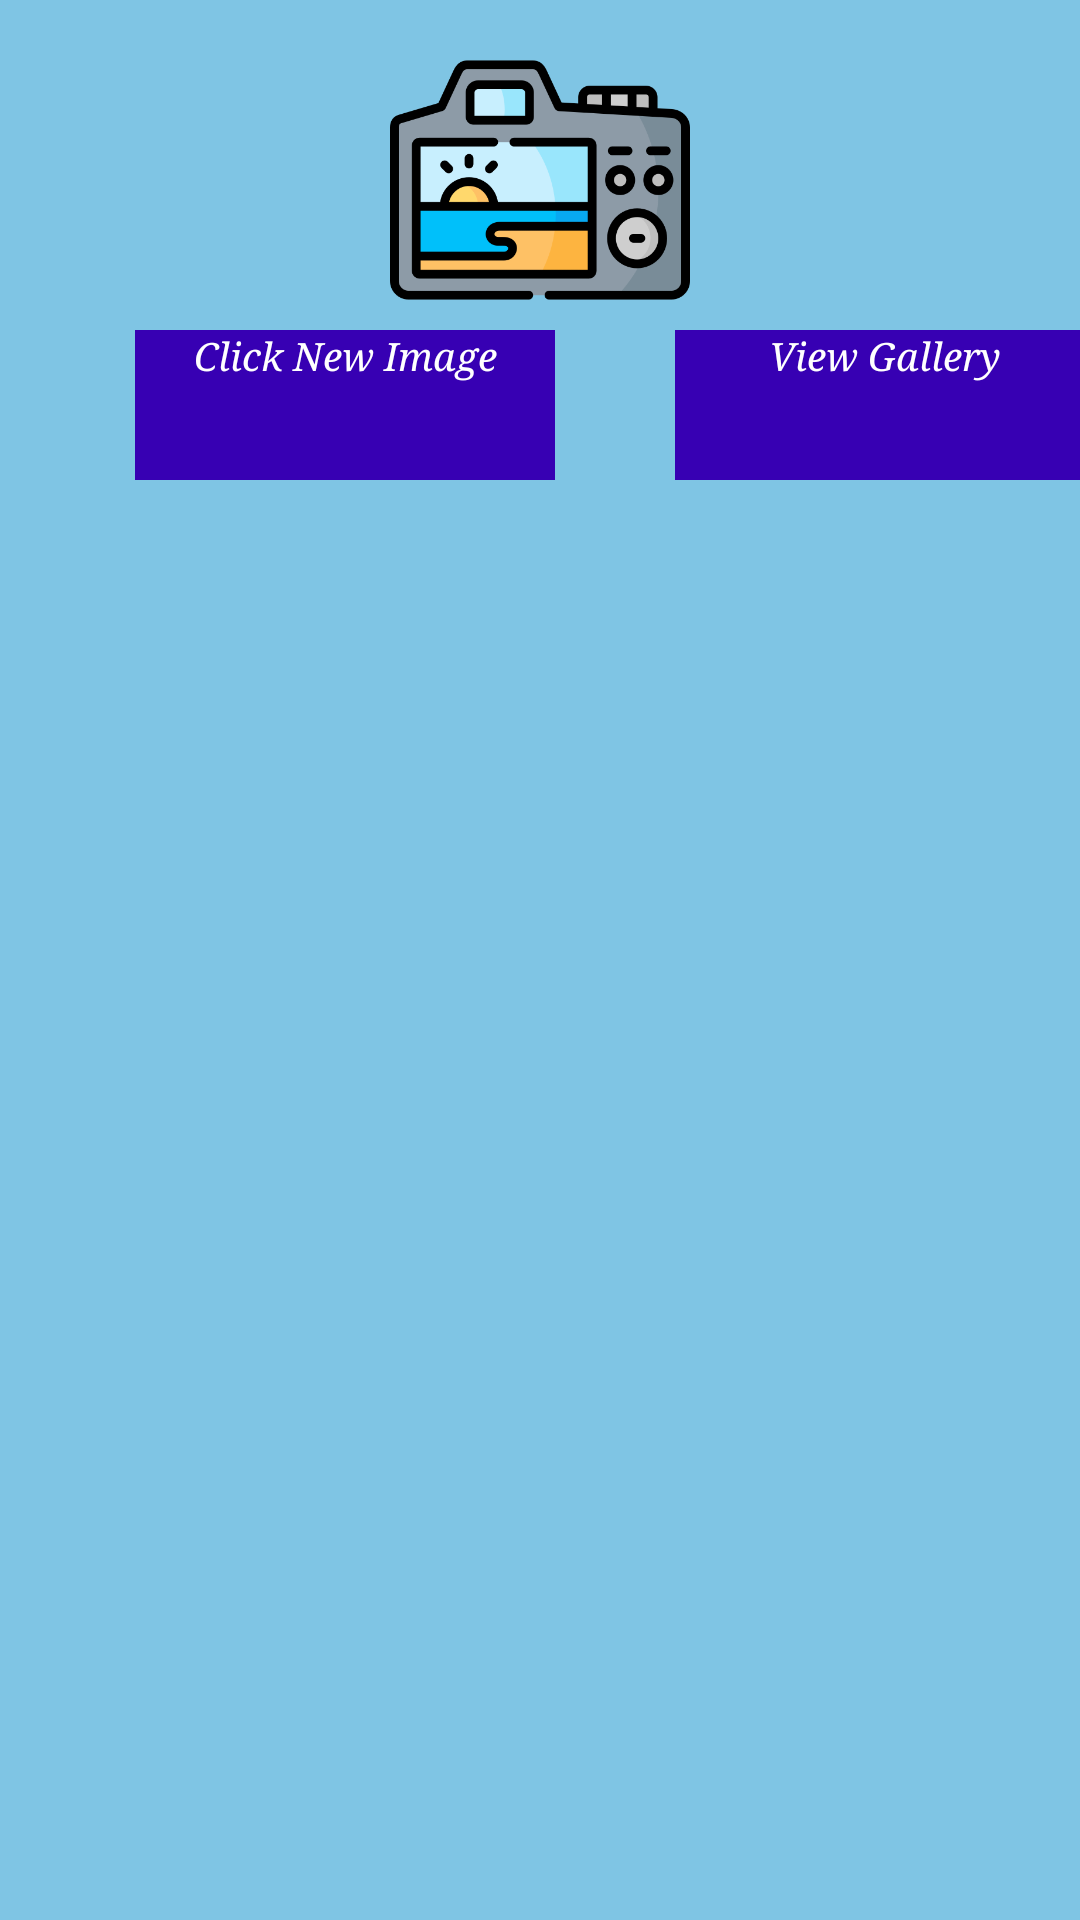

Icons on this 1080px×1920px Android screen, each with the point to tap as (x=x, y=y):
camera: (x=540, y=180)
